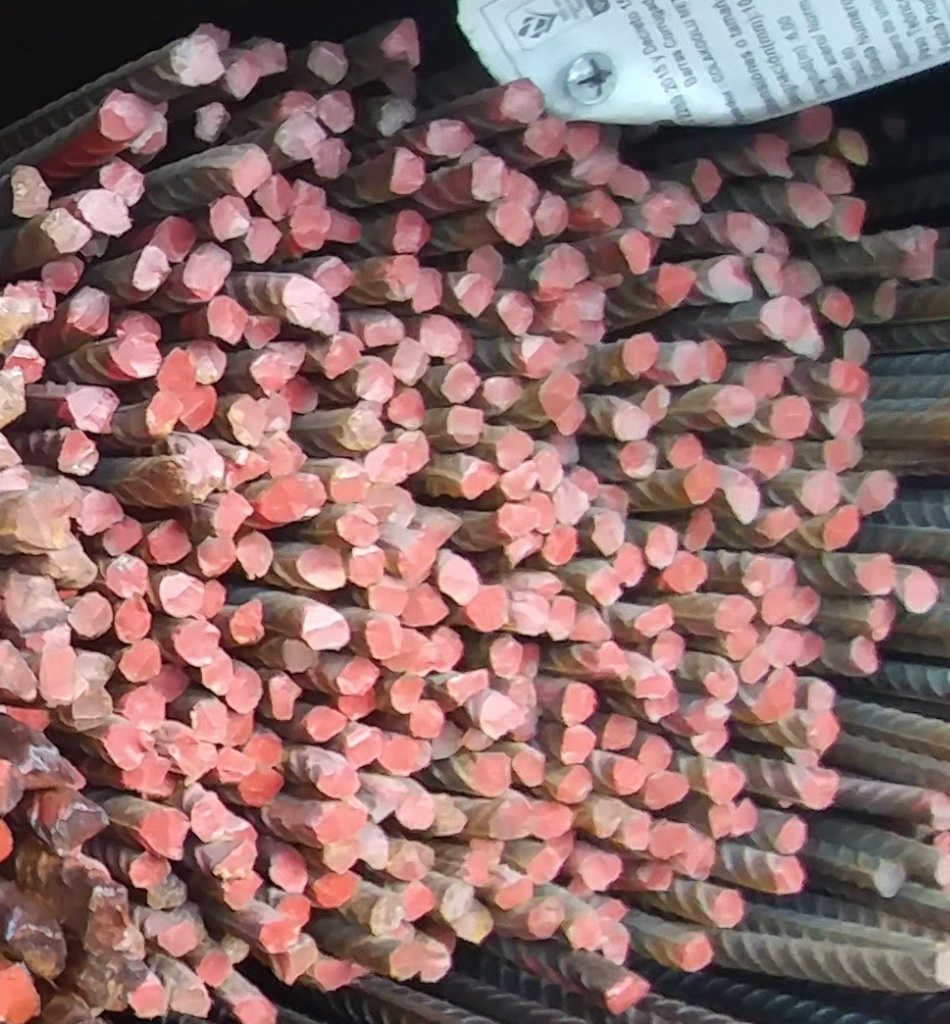dipstick: (13, 730, 87, 789), (258, 475, 325, 521), (287, 280, 339, 335), (51, 801, 107, 852), (23, 577, 69, 636), (18, 494, 68, 548), (534, 247, 589, 293), (40, 647, 85, 703), (144, 809, 192, 860), (252, 343, 301, 391), (125, 750, 173, 799), (298, 543, 347, 591), (67, 387, 121, 430), (22, 924, 68, 974), (753, 669, 797, 721), (185, 249, 232, 297), (390, 941, 450, 978), (178, 451, 221, 501), (788, 182, 834, 228), (467, 753, 514, 798), (1, 645, 38, 701), (45, 210, 91, 255), (50, 542, 96, 587), (84, 191, 132, 234), (173, 40, 222, 82), (1, 967, 40, 1019), (302, 606, 348, 649), (222, 450, 268, 493), (105, 725, 152, 767), (269, 847, 311, 894), (69, 593, 113, 637), (276, 117, 321, 160), (151, 518, 192, 565), (173, 735, 215, 780), (489, 794, 530, 840), (481, 692, 522, 738), (389, 630, 432, 673), (502, 79, 544, 123), (664, 553, 709, 594), (390, 839, 437, 878), (209, 298, 246, 347), (233, 147, 270, 196), (160, 575, 203, 617), (175, 620, 217, 663), (373, 486, 415, 529), (213, 494, 254, 538), (471, 585, 509, 632), (12, 168, 49, 216), (123, 688, 165, 730), (103, 159, 144, 202), (903, 228, 938, 278), (70, 287, 108, 333), (540, 373, 578, 419), (439, 556, 477, 602), (902, 569, 940, 615), (337, 507, 379, 548), (762, 299, 803, 341), (409, 586, 448, 630), (237, 533, 275, 578), (657, 263, 695, 308), (207, 842, 253, 879), (105, 96, 147, 136), (331, 462, 373, 502), (395, 209, 432, 254), (315, 804, 365, 837), (389, 148, 424, 195), (426, 120, 473, 155), (829, 360, 869, 401), (354, 360, 393, 402), (825, 399, 864, 441), (608, 976, 651, 1014), (858, 471, 896, 514), (755, 134, 791, 179), (228, 397, 263, 443), (498, 290, 533, 336), (343, 411, 382, 452), (366, 445, 407, 484), (113, 339, 160, 373), (725, 477, 759, 524), (108, 554, 146, 596), (714, 258, 751, 301), (359, 819, 390, 870), (60, 434, 105, 469), (314, 872, 360, 906), (781, 261, 821, 300), (314, 258, 352, 299), (728, 214, 766, 255), (396, 535, 438, 572), (350, 544, 385, 588), (454, 904, 493, 943), (72, 689, 110, 729), (87, 910, 127, 948), (753, 443, 793, 481), (824, 505, 857, 551), (160, 918, 197, 959), (428, 794, 465, 835), (342, 727, 379, 768), (268, 435, 305, 476), (307, 45, 349, 81), (370, 784, 406, 826), (383, 21, 418, 64), (147, 877, 190, 912), (803, 470, 838, 513), (315, 765, 362, 797), (189, 699, 223, 743), (432, 626, 463, 674), (232, 601, 265, 646), (365, 614, 398, 659), (706, 766, 745, 804), (773, 398, 811, 437), (291, 210, 328, 250), (472, 156, 507, 198), (492, 876, 534, 911), (467, 843, 502, 885), (554, 483, 589, 525), (618, 229, 649, 276), (370, 579, 408, 617), (212, 199, 249, 238), (528, 118, 565, 157), (321, 338, 358, 377), (422, 315, 459, 354), (133, 247, 169, 287), (468, 244, 504, 284), (200, 537, 236, 577), (511, 594, 547, 634), (190, 342, 225, 383), (414, 267, 445, 313), (118, 597, 149, 643), (248, 220, 281, 263), (381, 734, 414, 777), (836, 196, 866, 243), (644, 774, 688, 806), (105, 520, 143, 557), (341, 658, 379, 695), (764, 629, 801, 667), (855, 556, 893, 593), (155, 220, 191, 259), (122, 639, 158, 678), (172, 983, 211, 1019), (528, 899, 564, 938), (557, 765, 593, 804), (454, 275, 489, 315), (758, 507, 798, 542), (306, 707, 348, 740), (684, 841, 717, 883), (684, 462, 717, 504), (388, 670, 425, 707), (321, 92, 357, 130), (451, 668, 489, 704), (85, 493, 124, 528), (443, 364, 478, 403), (650, 824, 689, 859), (318, 137, 349, 181), (229, 669, 263, 709), (567, 912, 601, 952), (624, 333, 658, 373), (531, 803, 572, 836), (591, 511, 623, 553), (259, 178, 290, 221), (538, 193, 569, 236), (521, 336, 557, 373), (501, 463, 537, 500), (619, 443, 656, 479), (78, 653, 116, 688), (218, 745, 253, 783), (402, 881, 436, 920), (721, 387, 755, 426), (498, 205, 531, 245), (148, 393, 181, 433), (513, 748, 546, 788), (804, 769, 837, 809), (488, 637, 520, 678), (669, 183, 701, 224), (439, 880, 470, 922), (395, 341, 426, 383), (389, 391, 424, 428), (601, 714, 636, 751), (448, 406, 482, 444), (559, 726, 593, 764), (269, 675, 299, 718), (287, 939, 315, 985), (614, 163, 647, 202), (132, 856, 172, 888), (398, 433, 430, 473), (484, 377, 524, 409), (563, 684, 594, 725), (131, 982, 167, 1017), (461, 463, 497, 498), (746, 361, 781, 397), (718, 595, 755, 629), (634, 604, 673, 636), (824, 439, 863, 471), (322, 842, 362, 873), (281, 643, 321, 674), (601, 923, 631, 964), (419, 513, 460, 543), (646, 527, 676, 568), (248, 733, 283, 768), (613, 406, 648, 441), (587, 191, 621, 227), (12, 288, 54, 317), (245, 771, 283, 803), (382, 95, 413, 134), (775, 817, 806, 856), (228, 55, 256, 98), (673, 341, 701, 384), (413, 701, 443, 741), (192, 797, 221, 838), (688, 704, 729, 733), (498, 503, 534, 536), (545, 528, 577, 565), (161, 352, 192, 390), (387, 256, 415, 298), (582, 856, 621, 886), (646, 194, 673, 237), (318, 959, 351, 994), (496, 431, 529, 466), (587, 568, 619, 604), (798, 104, 834, 136), (822, 289, 854, 325), (613, 756, 643, 794), (599, 643, 629, 681), (82, 886, 124, 913), (687, 509, 714, 551), (592, 799, 621, 838), (572, 611, 611, 640), (614, 547, 643, 586), (1, 766, 23, 817), (508, 535, 542, 568), (262, 919, 297, 951), (548, 598, 574, 641), (565, 123, 596, 159), (670, 433, 701, 469), (739, 645, 769, 682), (41, 264, 82, 291), (513, 571, 561, 594), (363, 319, 401, 348), (374, 893, 399, 937), (573, 157, 615, 183), (578, 281, 606, 320), (549, 299, 581, 333), (639, 737, 671, 771), (399, 795, 430, 830), (651, 633, 682, 668), (119, 312, 159, 339), (536, 449, 563, 489), (754, 254, 781, 294), (204, 653, 229, 696), (774, 857, 803, 894), (812, 714, 841, 751), (695, 158, 721, 199), (265, 392, 293, 430), (328, 213, 361, 245), (200, 952, 233, 984), (200, 104, 230, 139), (638, 862, 673, 892), (681, 934, 711, 969), (806, 681, 836, 716), (819, 158, 849, 193), (222, 877, 258, 906), (598, 484, 627, 520), (292, 181, 329, 209), (714, 892, 742, 929), (701, 338, 724, 383), (869, 600, 894, 641), (704, 667, 735, 700), (693, 729, 728, 758), (726, 623, 755, 658), (763, 587, 789, 626), (798, 631, 826, 667), (790, 588, 818, 624), (528, 852, 560, 883), (253, 44, 286, 74), (336, 695, 379, 718), (436, 723, 462, 761), (49, 995, 83, 1024), (839, 128, 867, 163), (248, 315, 279, 346), (633, 674, 673, 698), (556, 402, 584, 436), (141, 115, 166, 153), (874, 279, 898, 318), (508, 173, 539, 203), (733, 798, 756, 838), (744, 559, 769, 595), (244, 998, 278, 1024), (203, 578, 225, 618), (227, 713, 252, 748), (624, 814, 649, 849), (771, 558, 796, 593), (875, 863, 902, 895), (532, 494, 555, 531), (851, 639, 876, 673), (798, 329, 829, 356), (843, 331, 868, 364), (519, 644, 541, 680), (646, 386, 668, 422), (573, 468, 598, 499), (709, 805, 732, 838), (927, 797, 950, 830), (291, 385, 318, 413), (645, 697, 678, 719), (283, 94, 317, 114), (512, 681, 535, 710), (768, 228, 789, 259), (558, 434, 579, 464), (933, 855, 950, 885), (600, 902, 625, 919), (415, 746, 430, 773), (226, 942, 244, 960)
